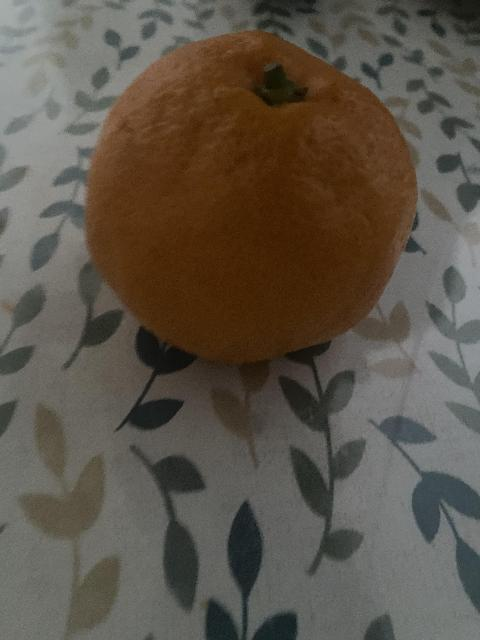Organik: (84, 16, 429, 359)
